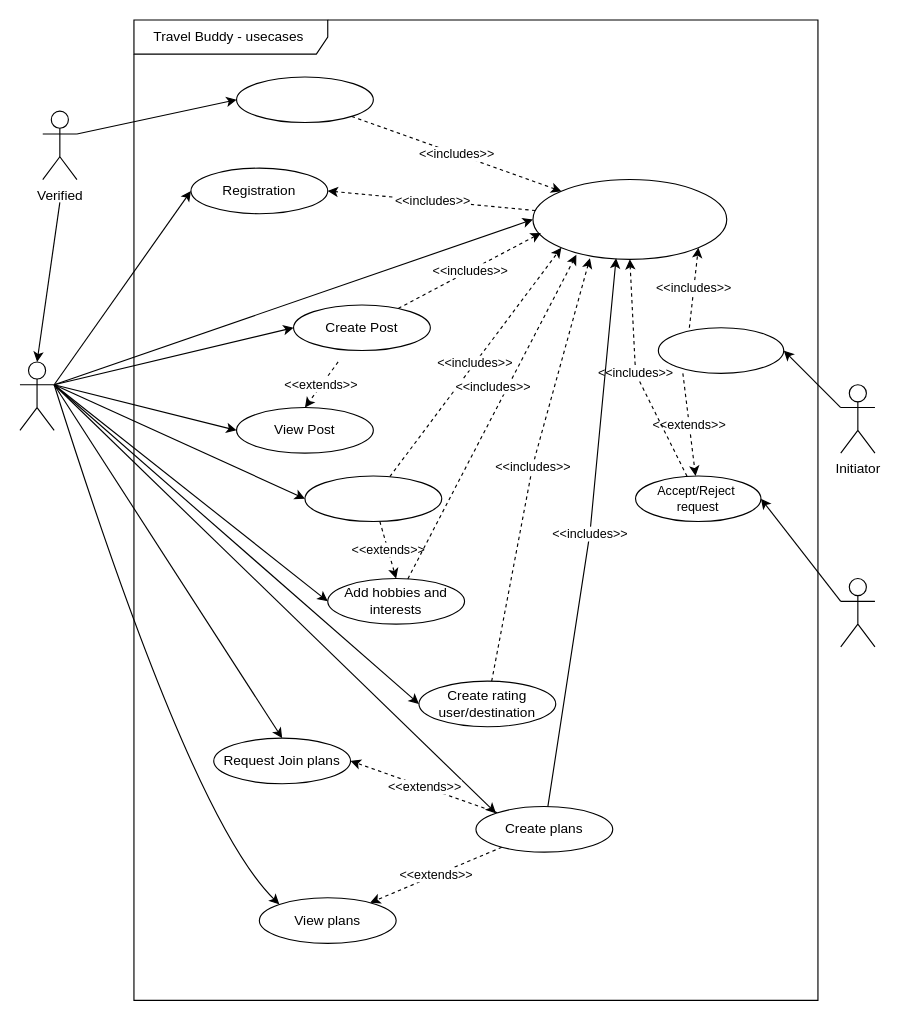
Some shapes in this 906 by 1020 pixel diagram are drawn without their labels. Each missing label, with the box of its shape:
Actor: (19, 361, 54, 430)
Complete profile: (304, 475, 442, 522)
Login: (532, 178, 727, 259)
Receiver: (840, 577, 875, 647)
Send request: (657, 327, 784, 373)
View user status: (235, 76, 373, 123)
